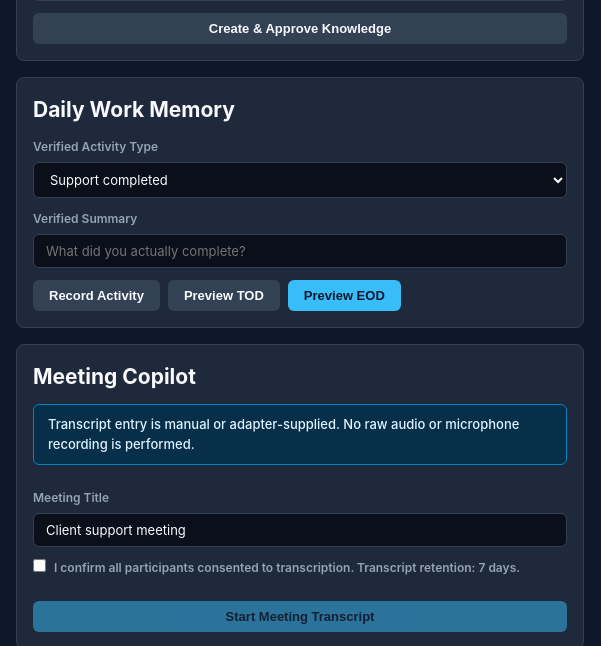
it: Desktop Overlay App Component › previews a truthful EOD report from verified work
This screenshot has width=601, height=646.
(page scrolled)
Click the button "Preview EOD" at coordinates (344, 295), box [288,280,401,310]
(page scrolled)
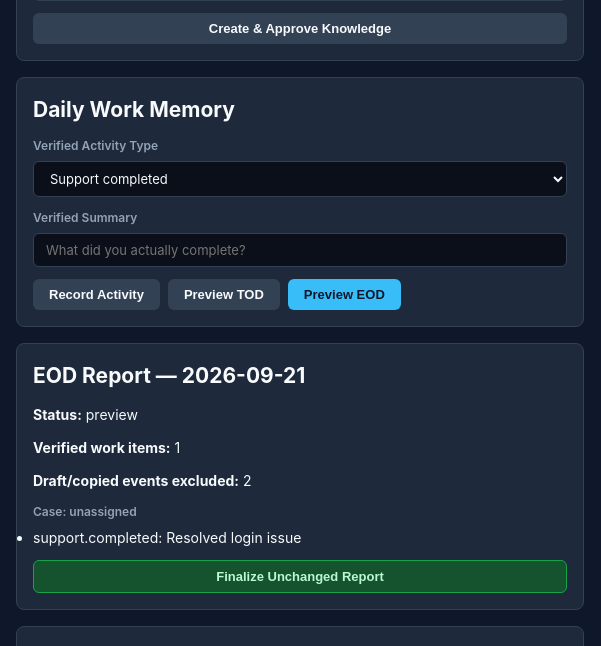
Expected: the heading "EOD Report — 2026-09-21" is shown, [33,363,305,388]
Expected: the list item "support.completed: Resolved login issue" is shown, [33,528,301,546]
Expected: the text "Draft/copied events excluded:" is shown, [33,472,239,488]
